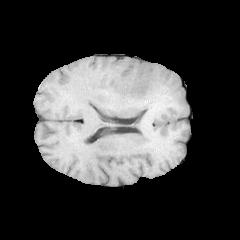glioma: (75, 61, 177, 141)
